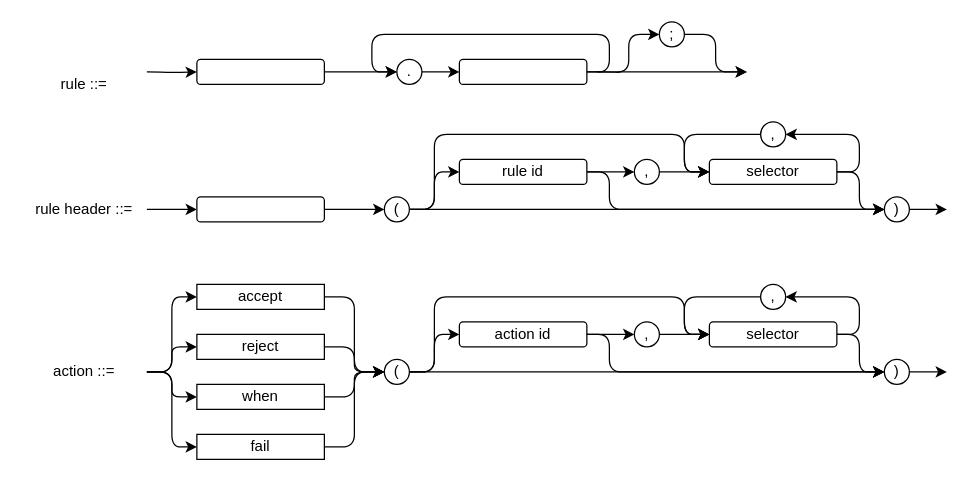
The diagram is 979 pixels wide and 481 high, and some of its shapes have lost their labels. The centre of each missing label's shape, as x and y in pixels:
"action" belongs at (522,71).
"identifier" belongs at (260,209).
"rule header" belongs at (260,71).
